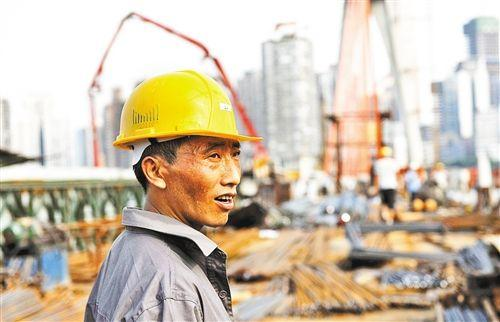helmet: (115, 72, 263, 147)
